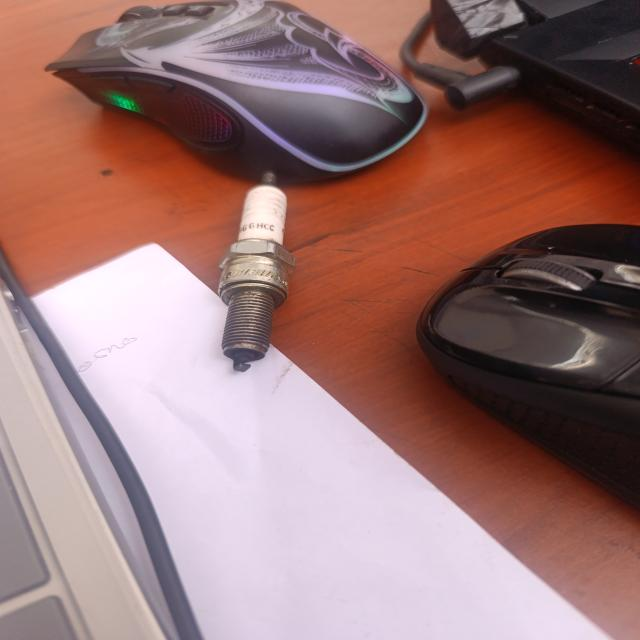Mause: (418, 225, 640, 505), (97, 0, 427, 173)
bujia: (219, 170, 295, 371)
